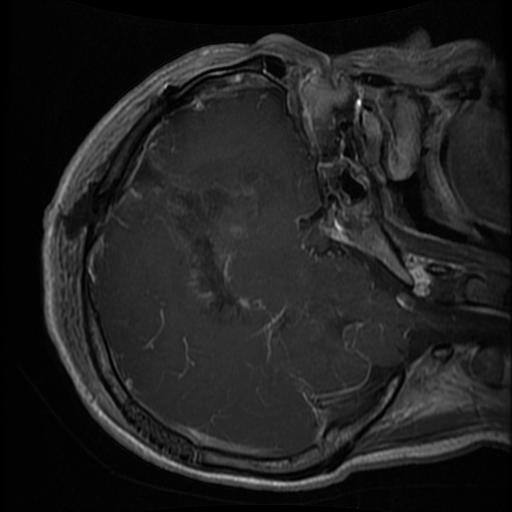glioma: (127, 146, 268, 325)
